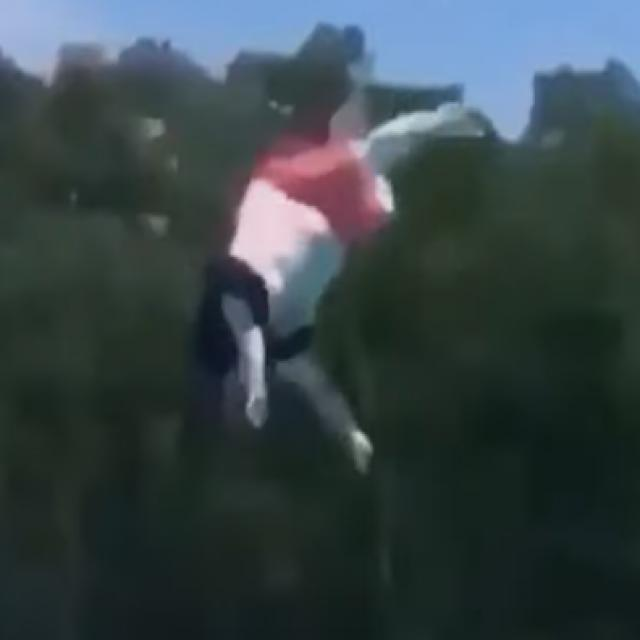fall: (198, 52, 480, 474)
